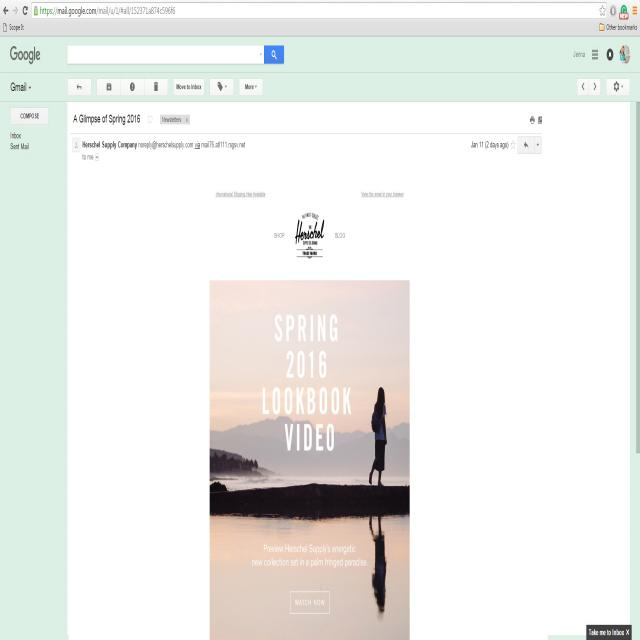button: (637, 102, 640, 452), (6, 43, 44, 67), (290, 592, 330, 614), (586, 625, 632, 640), (598, 20, 640, 36), (11, 109, 48, 125), (174, 78, 205, 95), (617, 41, 634, 68), (264, 44, 285, 64), (1, 20, 27, 36), (97, 79, 121, 96), (210, 79, 234, 96), (239, 79, 263, 96), (68, 78, 91, 95), (606, 79, 630, 95), (144, 79, 168, 95), (121, 79, 144, 95), (588, 41, 602, 67), (602, 43, 617, 67), (160, 114, 190, 124), (518, 137, 534, 154), (607, 2, 619, 20), (576, 79, 588, 96), (618, 0, 629, 18), (588, 79, 600, 95), (629, 2, 640, 19), (20, 2, 30, 19), (145, 112, 155, 128), (534, 138, 542, 154), (2, 3, 10, 18), (11, 3, 19, 17), (73, 138, 81, 152), (536, 114, 544, 126), (509, 139, 517, 151), (598, 6, 606, 16), (530, 114, 535, 126), (625, 627, 630, 637), (34, 6, 38, 15), (259, 50, 263, 59)
field: (31, 3, 608, 18), (67, 46, 264, 64)
